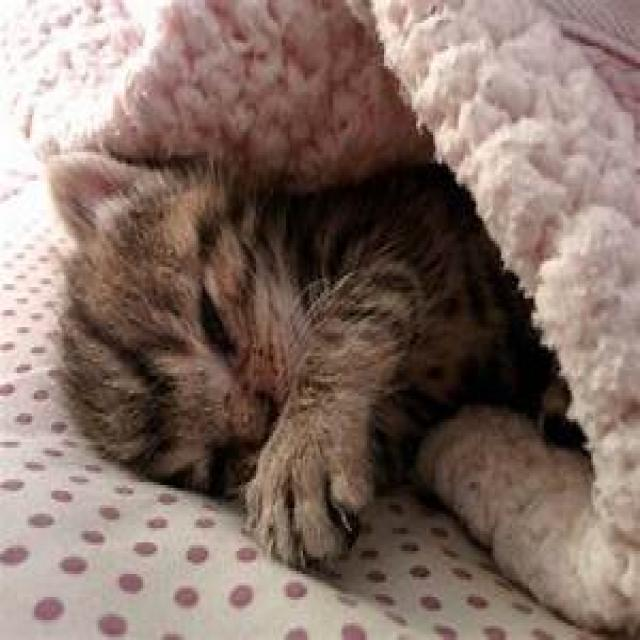cat: (31, 146, 481, 570)
